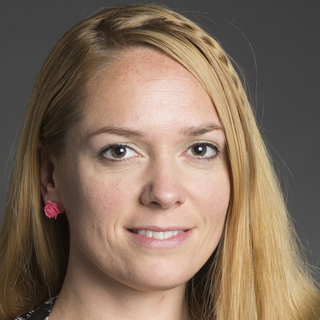eye: (94, 141, 148, 162), (178, 140, 223, 162)
